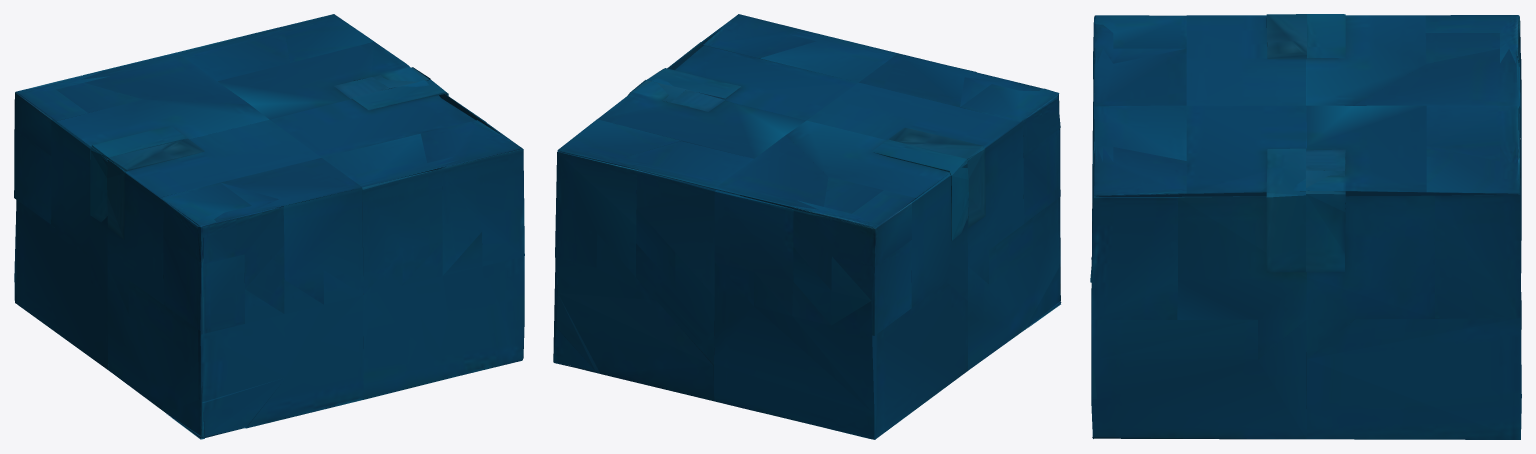
The model's file is rectangular-parcel.glb.
3 renders of one model, left to right at view 1: azimuth 30°, elevation 25°; view 2: azimuth 150°, elevation 25°; view 3: azimuth 270°, elevation 25°, orthographic. The views are drawn at different scales.
Visible parts, largest first — view 1: tripo_node_501222b1-97cf-4582-a835-eac54d238d1c; view 2: tripo_node_501222b1-97cf-4582-a835-eac54d238d1c; view 3: tripo_node_501222b1-97cf-4582-a835-eac54d238d1c.
Part boxes in pixels (box(x1,y1,x2,y2)): tripo_node_501222b1-97cf-4582-a835-eac54d238d1c: box(14, 14, 524, 439); tripo_node_501222b1-97cf-4582-a835-eac54d238d1c: box(553, 14, 1061, 439); tripo_node_501222b1-97cf-4582-a835-eac54d238d1c: box(1090, 14, 1521, 439).
Bounding box in the file's own units: 0.9985 × 0.6351 × 1.
1 material, 1 textured.
